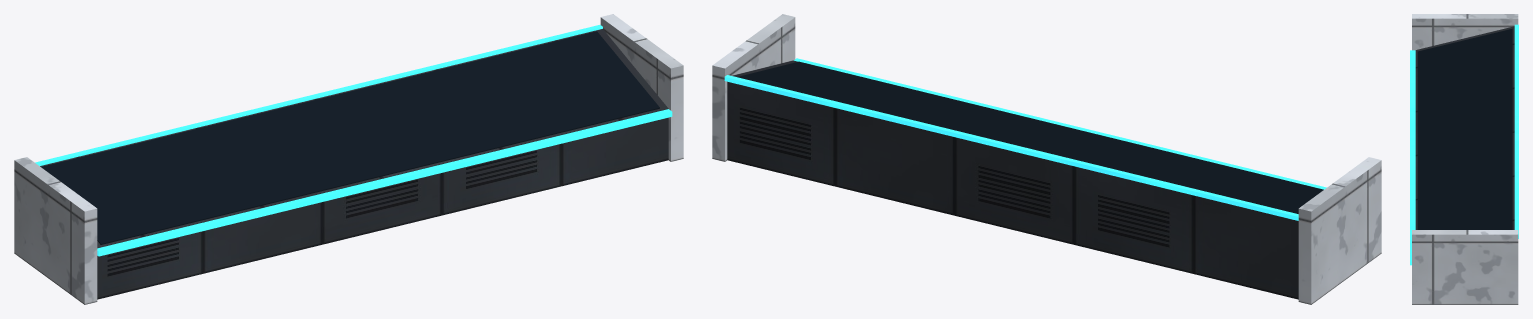
Rendered from console_wide_w.glb.
3 views of the same model, side by side, from view 1: azimuth 30°, elevation 25°; view 2: azimuth 150°, elevation 25°; view 3: azimuth 270°, elevation 25° (orthographic). The views are drawn at different scales.
Parts seen in each view (by area): view 1: console_wide_w; view 2: console_wide_w; view 3: console_wide_w.
Part boxes in pixels (left/top/right/bottom): console_wide_w: left=14, top=14, right=683, bottom=304; console_wide_w: left=712, top=14, right=1381, bottom=304; console_wide_w: left=1410, top=14, right=1518, bottom=304.
Size of the model in its own units: 7.52 by 1.12 by 1.57.
Materials: 4 (4 with a texture image).
